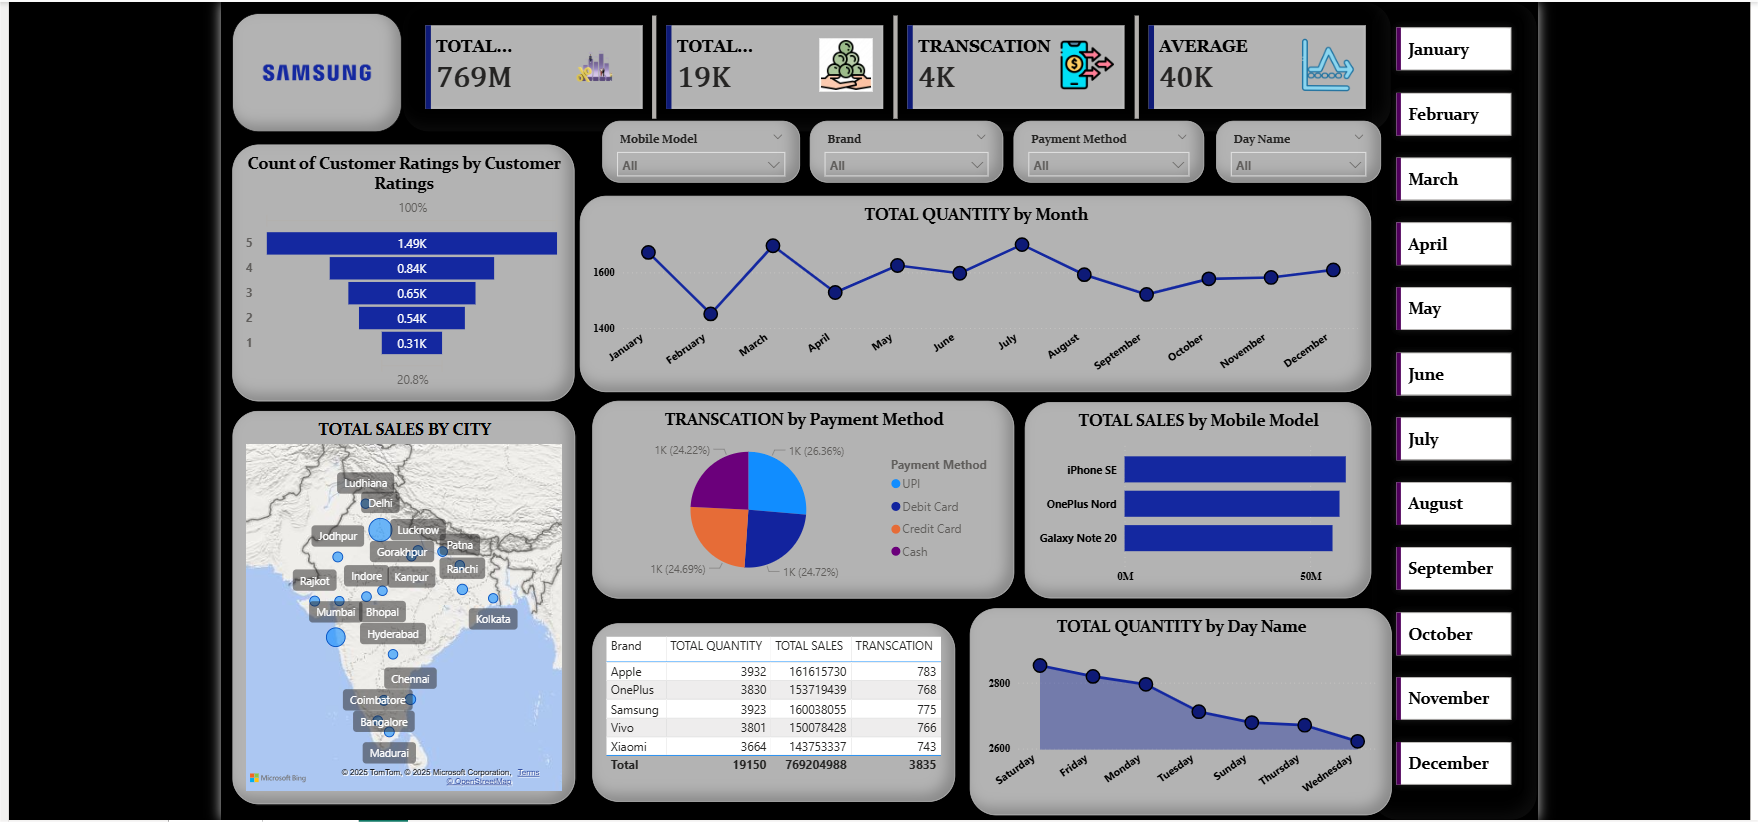

What the dashboard file says about the page in this screenshot:
{"tool":"powerbi","page":{"name":"Page 1","canvas":[1480,920],"ordinal":0},"visuals":[{"type":"image","box":[12.7,12.7,190.4,133.3],"z":0},{"type":"advancedSlicerVisual","fields":{"Values":["Sheet1.DATE.Variation.Date Hierarchy.Month"]},"box":[1293,0,187.1,920.3],"z":1000},{"type":"cardVisual","fields":{"Data":["Sheet1.TOTAL SALES","Sheet1.TOTAL QUANTITY","Sheet1.TRANSCATION","Sheet1.AVERAGE"]},"box":[203.8,0,1112,146],"z":2000},{"type":"map","title":"TOTAL SALES BY CITY ","fields":{"Category":["Sheet1.City"],"Size":["Sheet1.TOTAL SALES"]},"box":[12.7,460.1,385.6,442.7],"z":3000},{"type":"clusteredBarChart","fields":{"Y":["Sheet1.TOTAL SALES"],"Category":["Sheet1.Mobile Model"]},"box":[903.6,450.3,389.4,220.6],"z":4000},{"type":"lineChart","fields":{"Category":["Sheet1.DATE.Variation.Date Hierarchy.Month","Sheet1.DATE.Variation.Date Hierarchy.Day"],"Y":["Sheet1.TOTAL QUANTITY"]},"box":[403.1,217.5,889.9,220.6],"z":5000},{"type":"pieChart","fields":{"Category":["Sheet1.Payment Method"],"Y":["Sheet1.TRANSCATION"]},"box":[416.8,448.7,474.6,222.1],"z":6000},{"type":"funnel","fields":{"Y":["CountNonNull(Sheet1.Customer Ratings)"],"Category":["Sheet1.Customer Ratings"]},"box":[12.2,159.7,384.9,289],"z":7000},{"type":"slicer","fields":{"Values":["Sheet1.Mobile Model"]},"box":[429,133.9,222.1,70],"z":8000},{"type":"slicer","fields":{"Values":["Sheet1.Brand"]},"box":[661.7,133.9,217.5,70],"z":9000},{"type":"slicer","fields":{"Values":["Sheet1.Payment Method"]},"box":[891.4,133.9,214.5,70],"z":10000},{"type":"slicer","fields":{"Values":["Sheet1.Day Name"]},"box":[1118.1,133.9,185.6,70],"z":11000},{"type":"stackedAreaChart","fields":{"Category":["Sheet1.Day Name"],"Y":["Sheet1.TOTAL QUANTITY"]},"box":[841.2,681.5,474.6,232.7],"z":12000},{"type":"tableEx","fields":{"Values":["Sheet1.Brand","Sheet1.TOTAL QUANTITY","Sheet1.TOTAL SALES","Sheet1.TRANSCATION"]},"box":[416.8,698.2,407.7,200.8],"z":13000}]}

Visuals, with their boxes in screenshot pixels (x1, y1, x2, y2):
image: (x1=236, y1=11, x2=404, y2=129)
advancedSlicerVisual - Sheet1.DATE.Variation.Date Hierarchy.Month: (x1=1366, y1=0, x2=1532, y2=813)
cardVisual - Sheet1.TOTAL SALES x Sheet1.TOTAL QUANTITY: (x1=404, y1=0, x2=1387, y2=129)
"TOTAL SALES BY CITY " map: (x1=236, y1=406, x2=576, y2=797)
clusteredBarChart - Sheet1.TOTAL SALES x Sheet1.Mobile Model: (x1=1023, y1=398, x2=1366, y2=593)
lineChart - Sheet1.DATE.Variation.Date Hierarchy.Month x Sheet1.DATE.Variation.Date Hierarchy.Day: (x1=580, y1=192, x2=1366, y2=387)
pieChart - Sheet1.Payment Method x Sheet1.TRANSCATION: (x1=593, y1=396, x2=1012, y2=593)
funnel - CountNonNull(Sheet1.Customer Ratings) x Sheet1.Customer Ratings: (x1=235, y1=141, x2=575, y2=396)
slicer - Sheet1.Mobile Model: (x1=603, y1=118, x2=799, y2=180)
slicer - Sheet1.Brand: (x1=809, y1=118, x2=1001, y2=180)
slicer - Sheet1.Payment Method: (x1=1012, y1=118, x2=1201, y2=180)
slicer - Sheet1.Day Name: (x1=1212, y1=118, x2=1376, y2=180)
stackedAreaChart - Sheet1.Day Name x Sheet1.TOTAL QUANTITY: (x1=967, y1=602, x2=1387, y2=808)
tableEx - Sheet1.Brand x Sheet1.TOTAL QUANTITY: (x1=593, y1=617, x2=953, y2=794)
